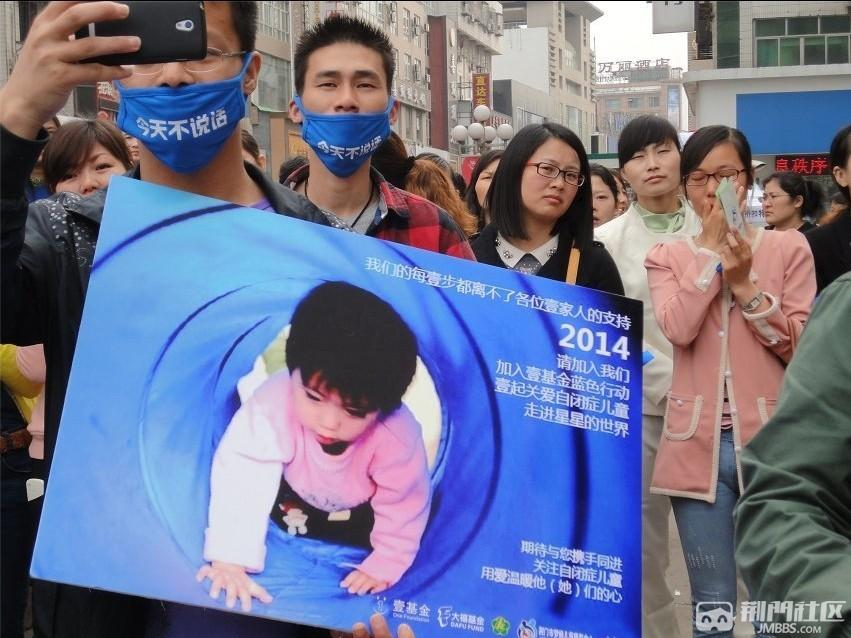NONE: (292, 369, 374, 452), (526, 154, 583, 215), (690, 158, 748, 217), (630, 144, 680, 192), (576, 183, 616, 230), (762, 190, 793, 225)
WRONG: (119, 32, 247, 165), (301, 60, 392, 153), (56, 152, 126, 218)
